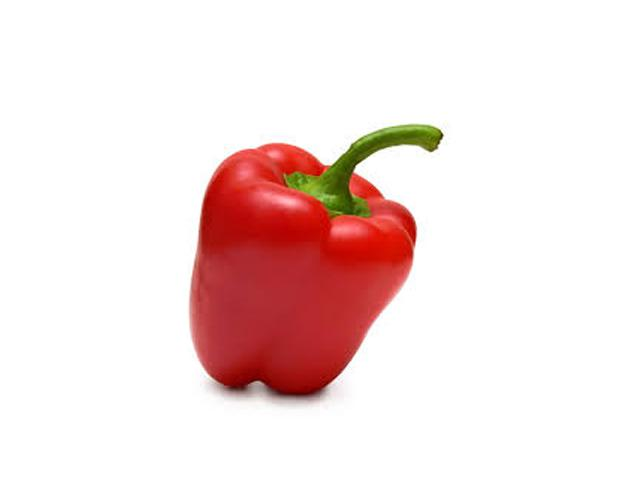bell_pepper: (176, 107, 449, 414)
